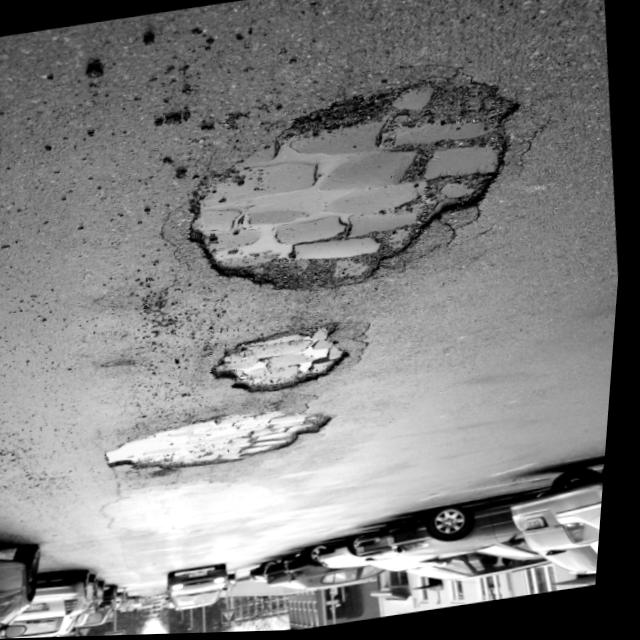pathole: (120, 0, 537, 337), (67, 300, 418, 526)
